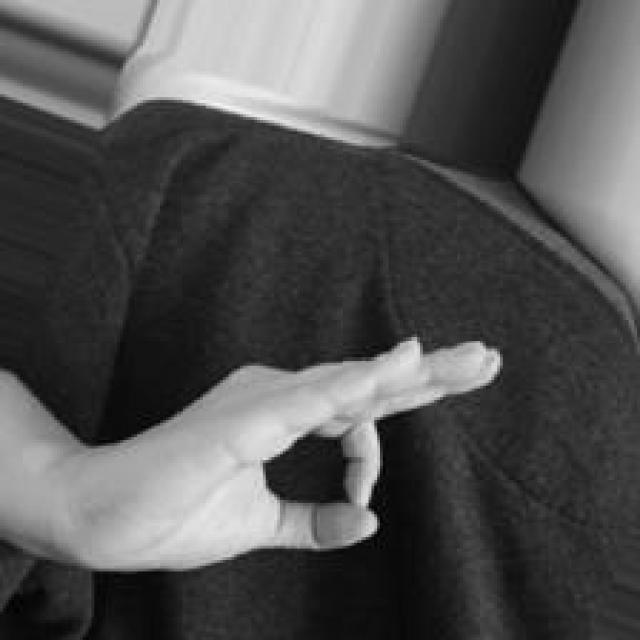O: (76, 333, 508, 580)
